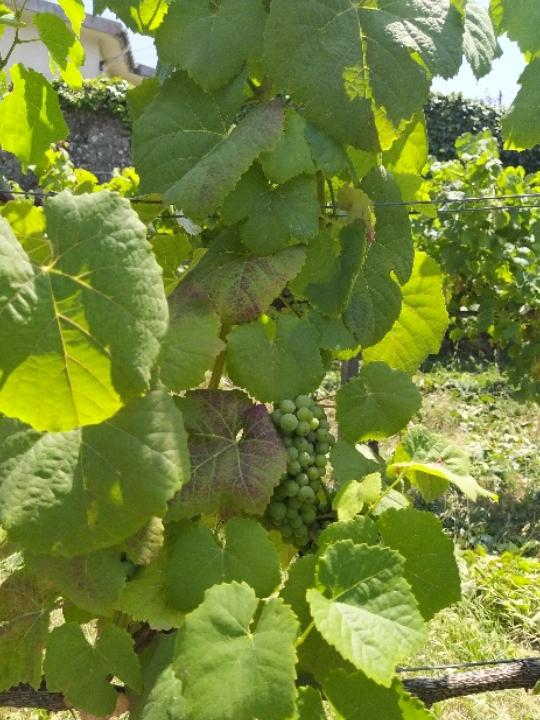grape: (262, 390, 336, 550)
